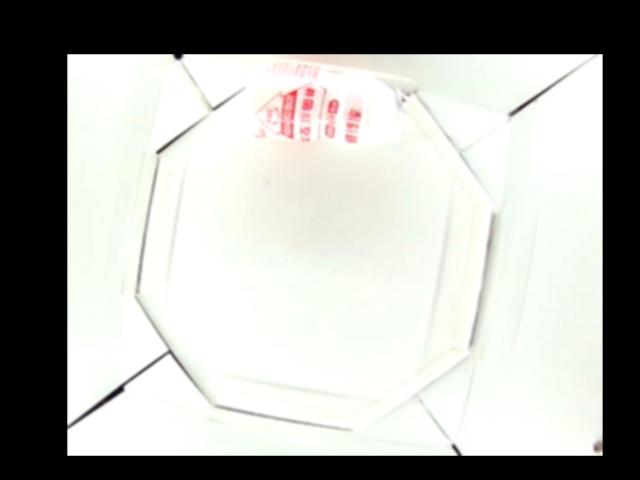Bottle: (246, 56, 408, 148)
